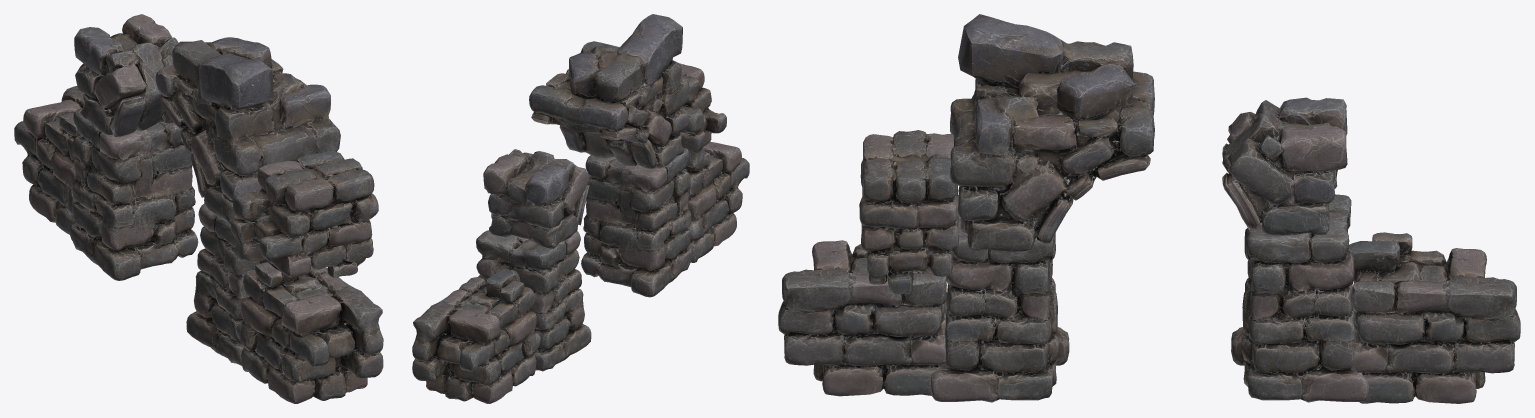
Rendered from SM_Ruin_01.fbx.
3 renders of one model, left to right at view 1: azimuth 30°, elevation 25°; view 2: azimuth 150°, elevation 25°; view 3: azimuth 270°, elevation 25°, orthographic. The views are drawn at different scales.
Visible parts, largest first — view 1: SM_Ruin_01_LOD0; view 2: SM_Ruin_01_LOD0; view 3: SM_Ruin_01_LOD0.
Boxes of the visible parts, bbox=[...] form: SM_Ruin_01_LOD0: bbox=[14, 14, 383, 403]; SM_Ruin_01_LOD0: bbox=[412, 14, 749, 403]; SM_Ruin_01_LOD0: bbox=[778, 14, 1520, 403].
Bounding box in the file's own units: 363 × 1709 × 885.
